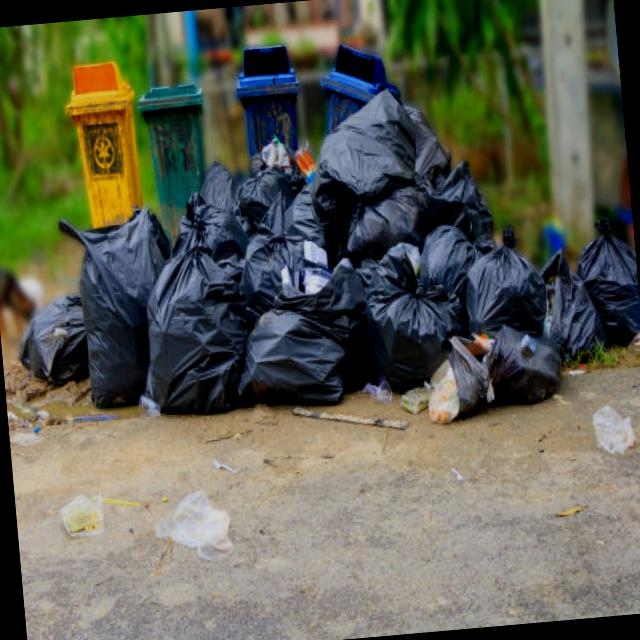garbage: (0, 62, 635, 468)
